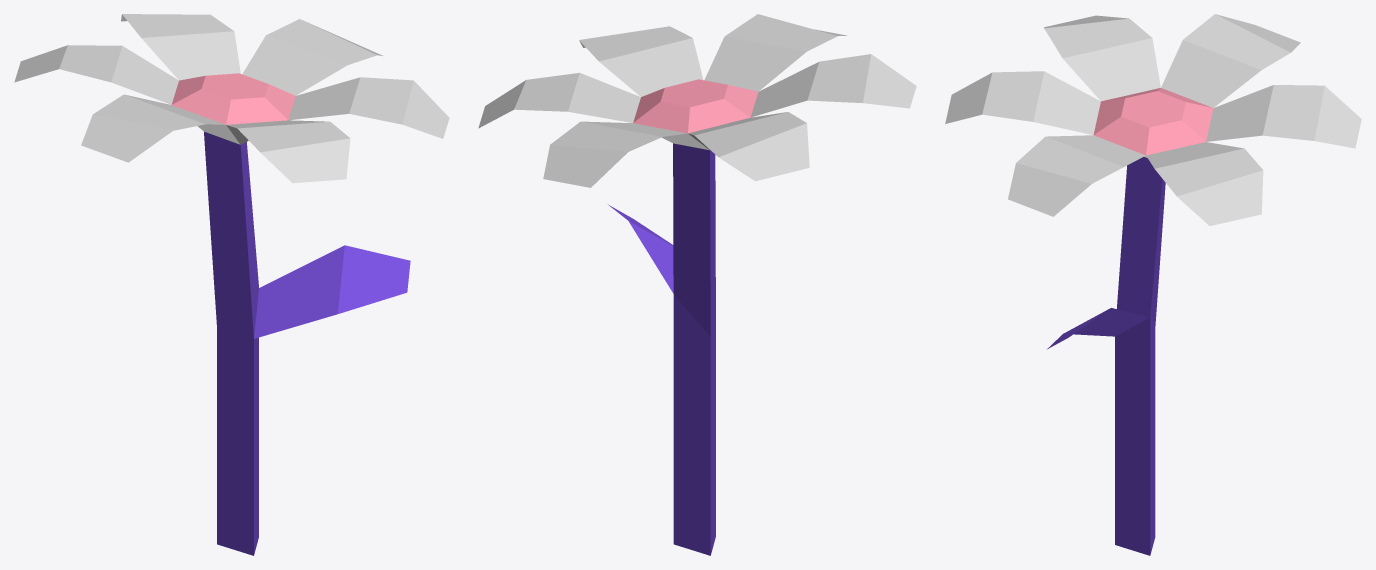
Rendered from flower.glb.
3 renders of one model, left to right at view 1: azimuth 30°, elevation 25°; view 2: azimuth 150°, elevation 25°; view 3: azimuth 270°, elevation 25°, orthographic. The views are drawn at different scales.
Parts seen in each view (by area): view 1: Circle.006_Circle.007; view 2: Circle.006_Circle.007; view 3: Circle.006_Circle.007.
Part boxes in pixels (<box>): Circle.006_Circle.007: <box>14,14,449,555</box>; Circle.006_Circle.007: <box>478,14,916,555</box>; Circle.006_Circle.007: <box>945,14,1361,555</box>.
Size of the model in its own units: 0.5238 by 0.6675 by 0.5432.
